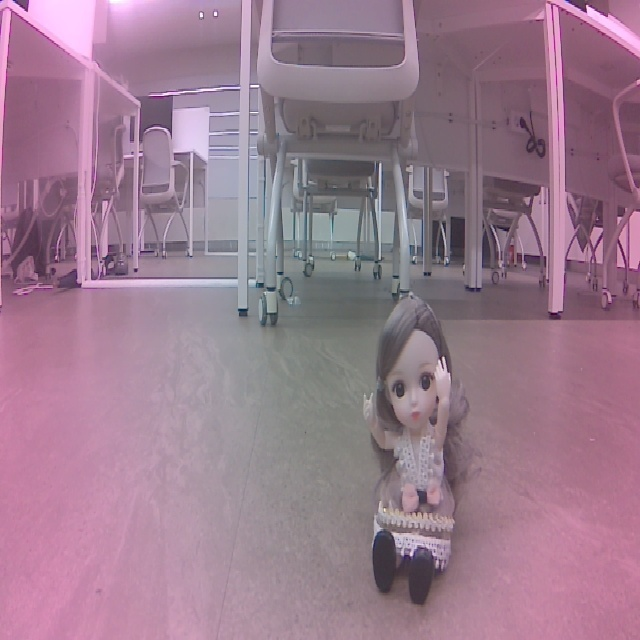장애물: (355, 290, 473, 602)
